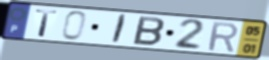0: (59, 9, 91, 42)
2: (174, 18, 207, 51)
B: (131, 15, 167, 48)
I: (110, 13, 129, 45)
R: (206, 20, 239, 54)
T: (34, 8, 60, 38)
